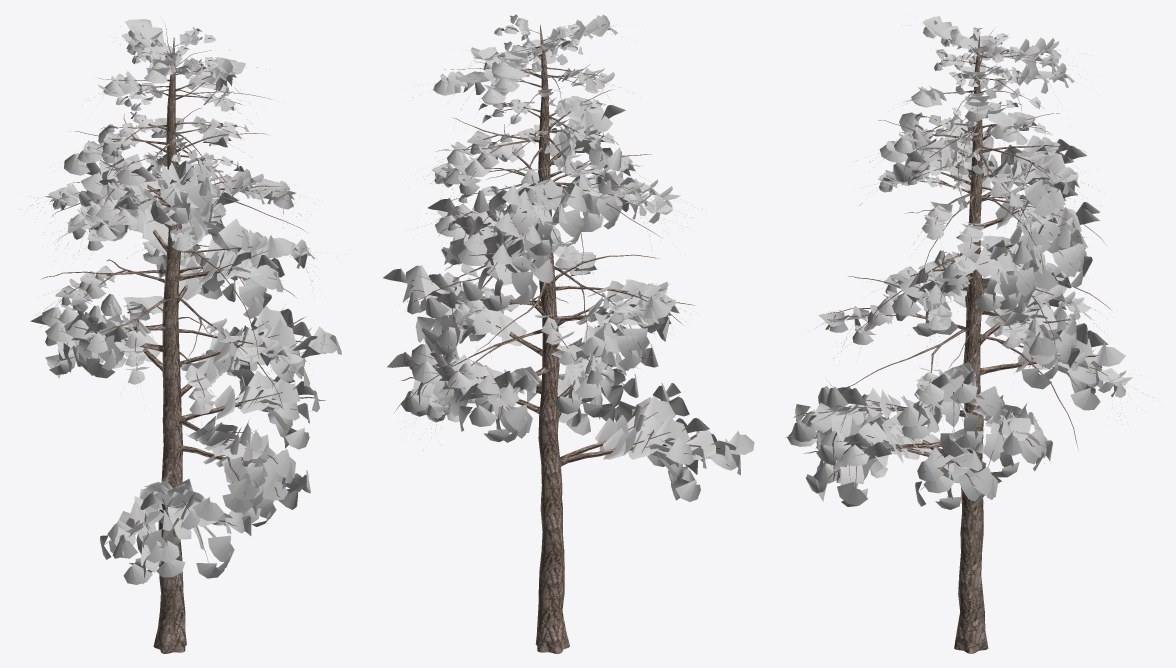
The model's file is tree1.fbx.
The picture shows the model from 3 angles, left to right: view 1: azimuth 30°, elevation 25°; view 2: azimuth 150°, elevation 25°; view 3: azimuth 270°, elevation 25°; orthographic projection. The views are drawn at different scales.
Visible parts, largest first — view 1: branch08_1, bark08_0; view 2: branch08_1, bark08_0; view 3: branch08_1, bark08_0.
Part boxes in pixels (bbox=[...]): branch08_1: bbox=[30, 19, 341, 584]; bark08_0: bbox=[30, 24, 345, 653]; branch08_1: bbox=[383, 14, 754, 501]; bark08_0: bbox=[394, 25, 733, 653]; branch08_1: bbox=[787, 16, 1132, 509]; bark08_0: bbox=[785, 25, 1142, 653].
Bounding box in the file's own units: 968 × 1897 × 1059.
1 material, 1 textured.
